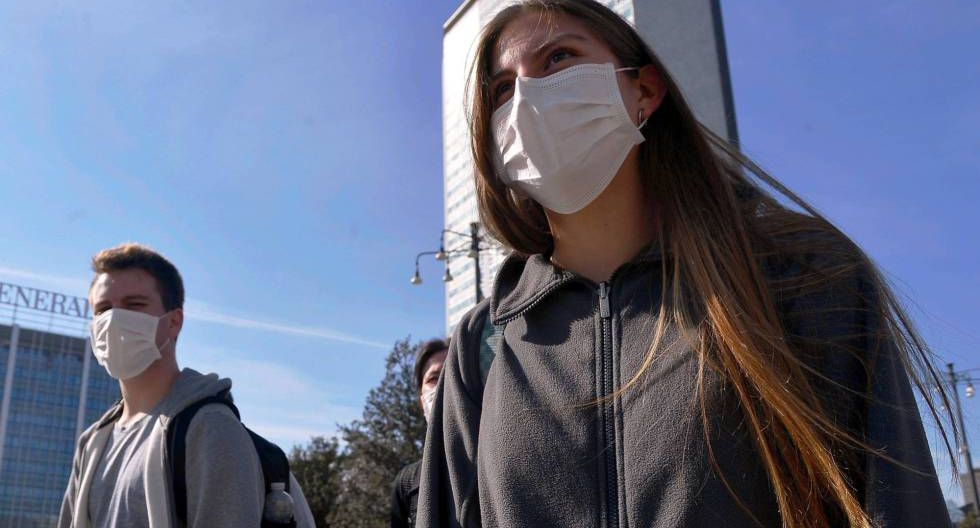with_mask: (462, 8, 686, 223), (79, 252, 198, 384), (405, 338, 466, 426)
